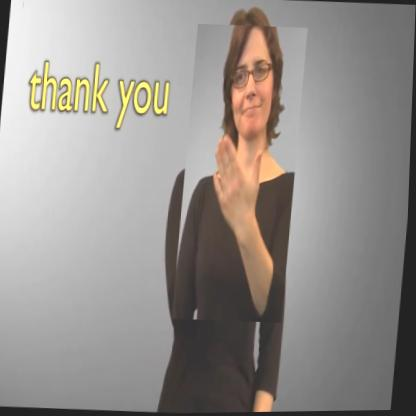ThankYou: (173, 23, 307, 324)
